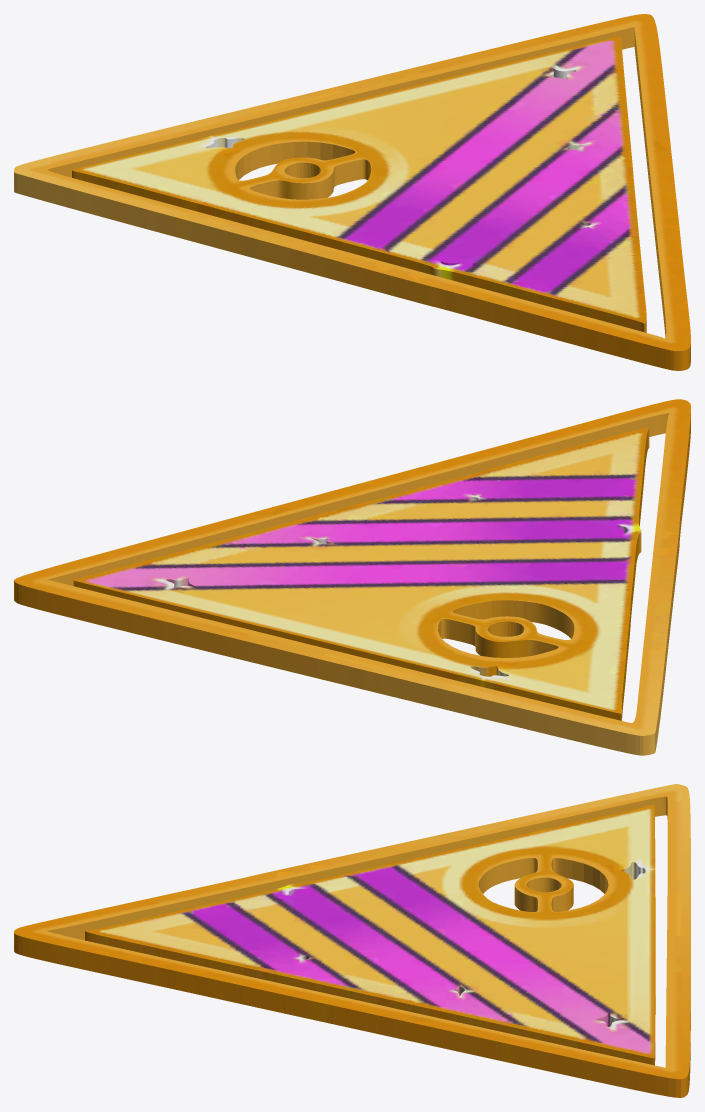
The picture shows the model from 3 angles, top to bottom: view 1: azimuth 30°, elevation 25°; view 2: azimuth 150°, elevation 25°; view 3: azimuth 270°, elevation 25°; orthographic projection. The views are drawn at different scales.
Parts seen in each view (by area): view 1: path1587; view 2: path1587; view 3: path1587.
Part boxes in pixels (x1,y1,x2,y2): path1587: [14, 14, 690, 370]; path1587: [14, 399, 690, 755]; path1587: [14, 784, 690, 1097].
Size of the model in its own units: 67.71 by 2 by 65.6.
1 material, 1 textured.
